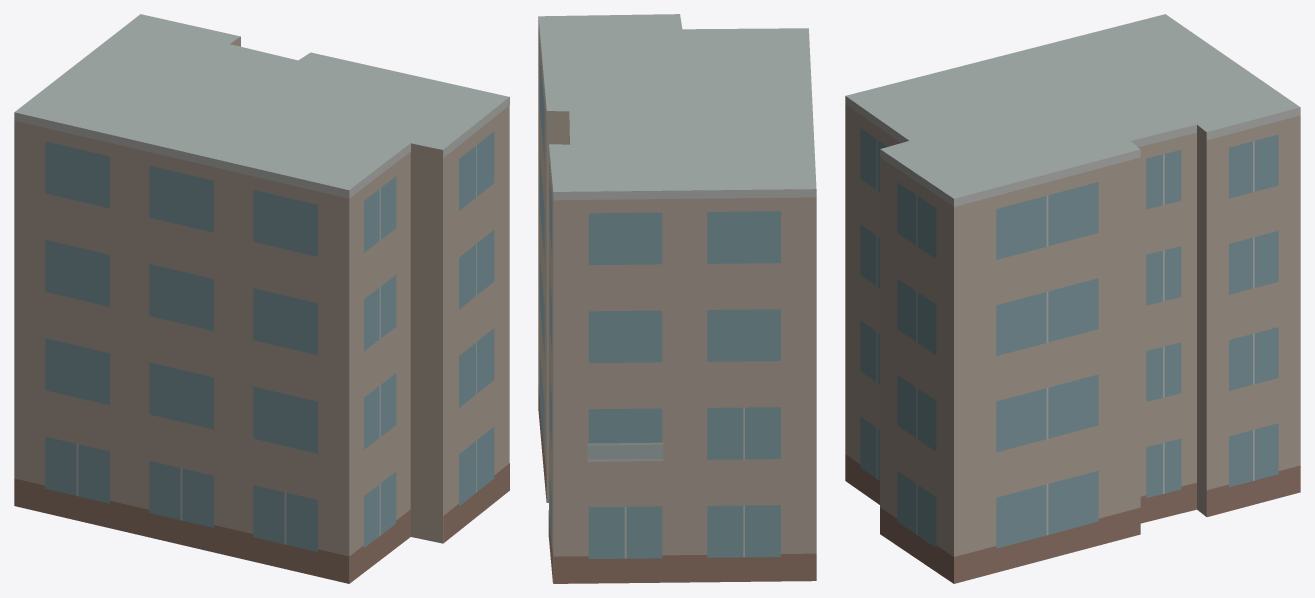
The model's file is survey-upis-32937286.glb.
3 views of the same model, side by side, from view 1: azimuth 30°, elevation 25°; view 2: azimuth 150°, elevation 25°; view 3: azimuth 270°, elevation 25° (orthographic). The views are drawn at different scales.
Visible parts, largest first — view 1: survey-upis-32937286.tmp; view 2: survey-upis-32937286.tmp; view 3: survey-upis-32937286.tmp.
Part boxes in pixels (x1,y1,x2,y2): survey-upis-32937286.tmp: [14, 14, 509, 583]; survey-upis-32937286.tmp: [538, 14, 816, 583]; survey-upis-32937286.tmp: [845, 14, 1300, 583].
Size of the model in its own units: 11.96 by 11.6 by 12.44.
